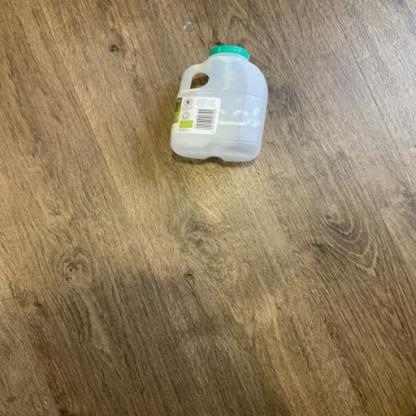trash: (164, 43, 271, 160)
